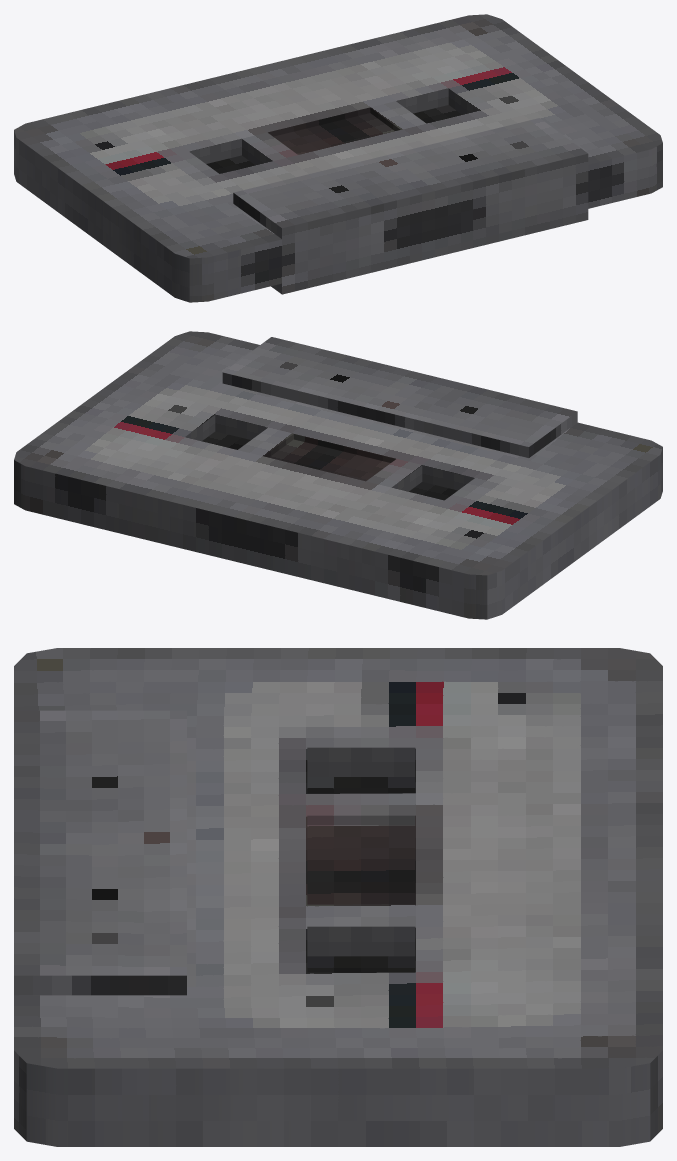
File: cassette_tape_1.fbx
3 views of the same model, one above another, from view 1: azimuth 30°, elevation 25°; view 2: azimuth 150°, elevation 25°; view 3: azimuth 270°, elevation 25° (orthographic). The views are drawn at different scales.
Visible parts, largest first — view 1: cassette_tape_1; view 2: cassette_tape_1; view 3: cassette_tape_1.
Boxes of the visible parts, x1,y1,x2,y2 form: cassette_tape_1: (14,14,662,302); cassette_tape_1: (14,331,662,619); cassette_tape_1: (14,648,662,1146).
Size of the model in its own units: 0.1656 by 0.108 by 0.0216.
